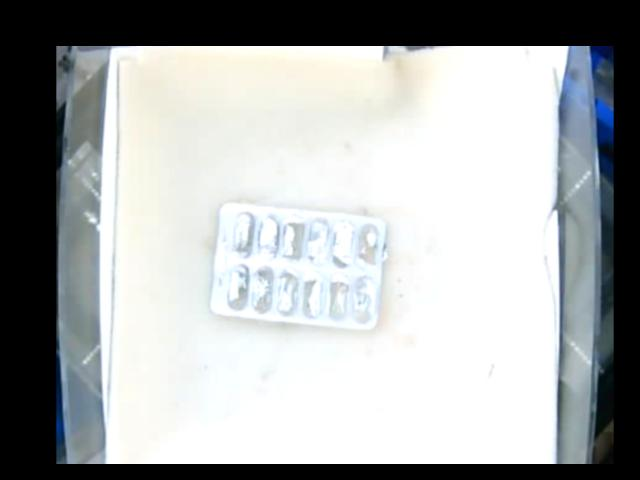Medicine: (211, 201, 384, 329)
